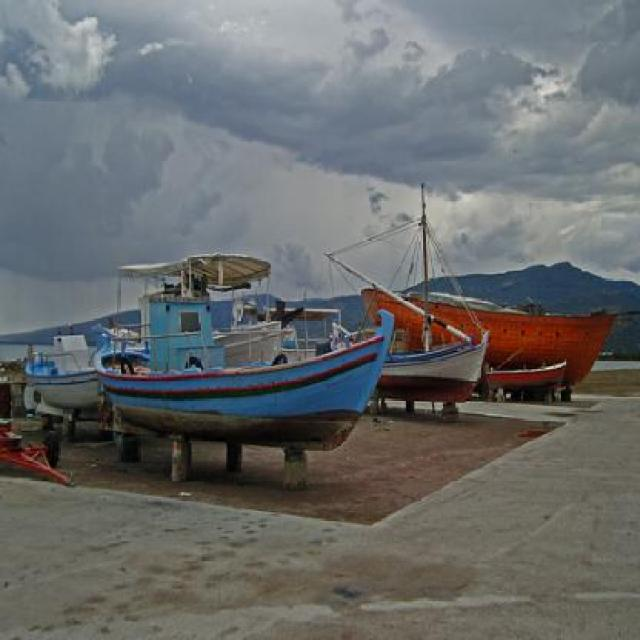ship: (97, 251, 394, 452), (324, 310, 505, 407), (21, 316, 113, 424)
